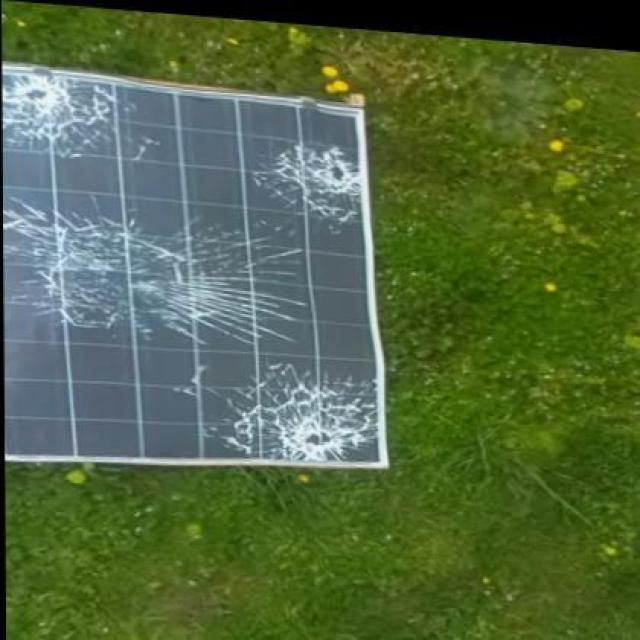cracked: (1, 61, 394, 477)
